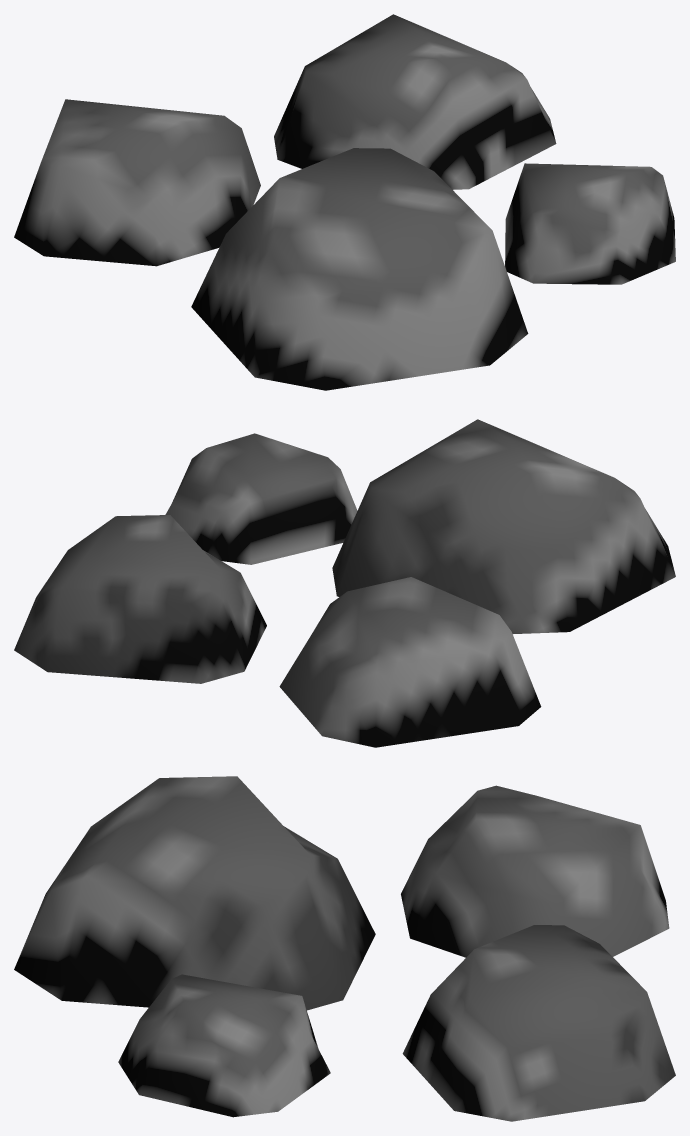
The model's file is deco_rocks_B.FBX.
3 renders of one model, top to bottom at view 1: azimuth 30°, elevation 25°; view 2: azimuth 150°, elevation 25°; view 3: azimuth 270°, elevation 25°, orthographic. The views are drawn at different scales.
Parts seen in each view (by area): view 1: deco_rocks_B; view 2: deco_rocks_B; view 3: deco_rocks_B.
Boxes of the visible parts, box(x1,y1,x2,y2) form: deco_rocks_B: box(14, 14, 675, 390); deco_rocks_B: box(14, 419, 675, 747); deco_rocks_B: box(14, 776, 675, 1121).
Bounding box in the file's own units: 1.79 × 0.4402 × 1.88.
Materials: 1 (1 with a texture image).
